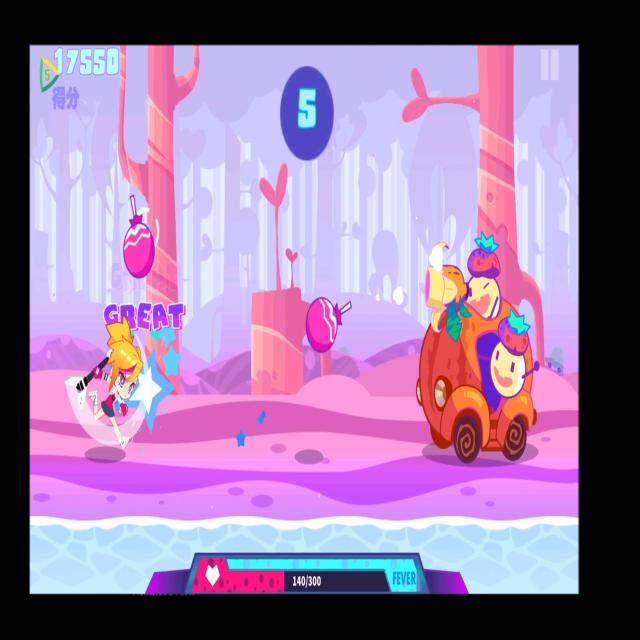Boss-Pumpkin: (415, 230, 542, 465)
Ground Monster - Candy: (116, 194, 160, 286), (304, 293, 358, 361)
